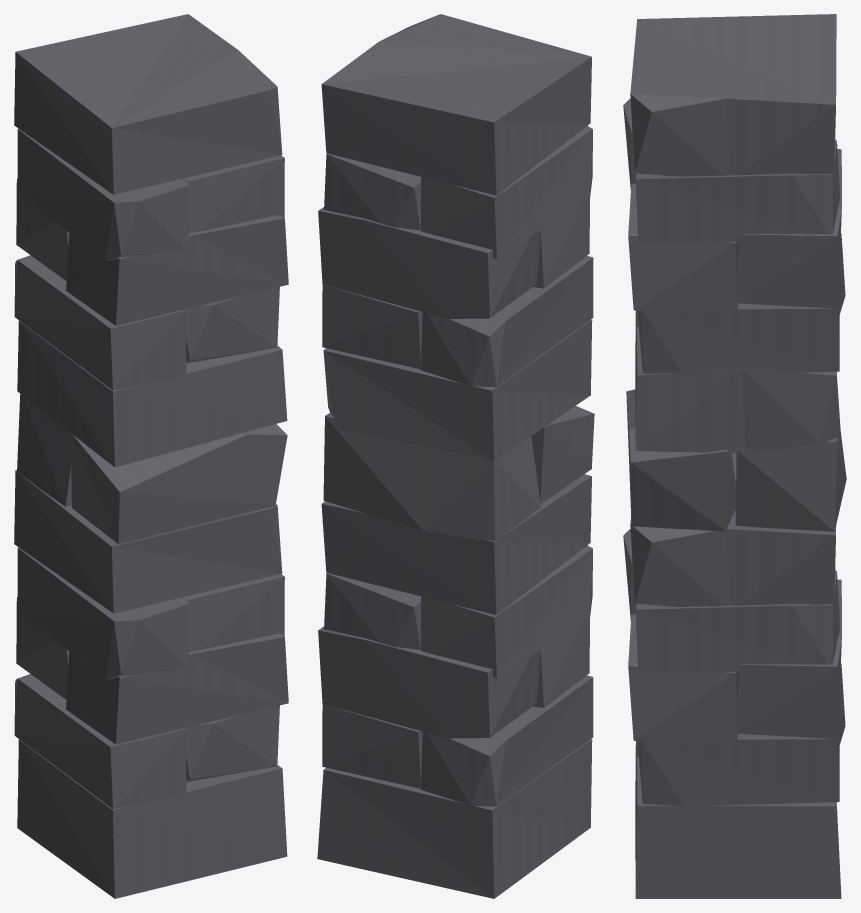
The model's file is Wall_2C_LOD1.fbx.
3 renders of one model, left to right at view 1: azimuth 30°, elevation 25°; view 2: azimuth 150°, elevation 25°; view 3: azimuth 270°, elevation 25°, orthographic. The views are drawn at different scales.
Visible parts, largest first — view 1: polySurface10197; view 2: polySurface10197; view 3: polySurface10197.
Boxes of the visible parts, x1,y1,x2,y2 form: polySurface10197: (14, 14, 288, 898); polySurface10197: (317, 14, 594, 898); polySurface10197: (623, 14, 846, 898).
Size of the model in its own units: 106 by 436 by 111.
